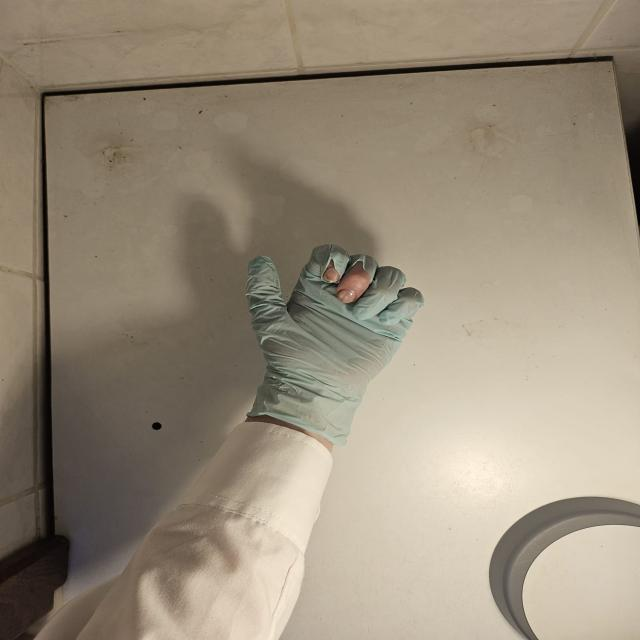gloves_damaged: (242, 241, 428, 451)
